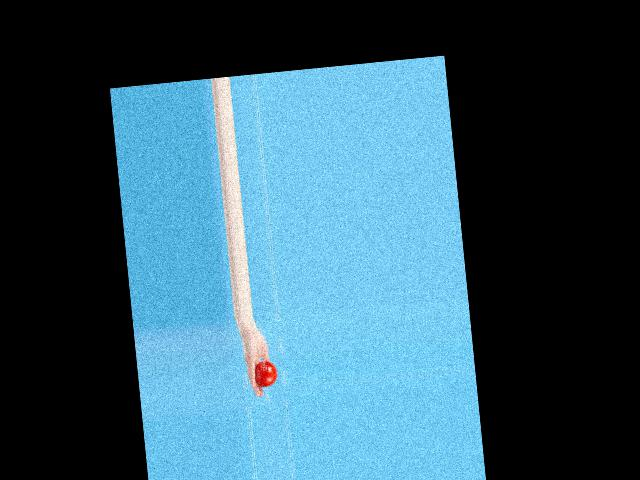tomato: (253, 360, 278, 387)
